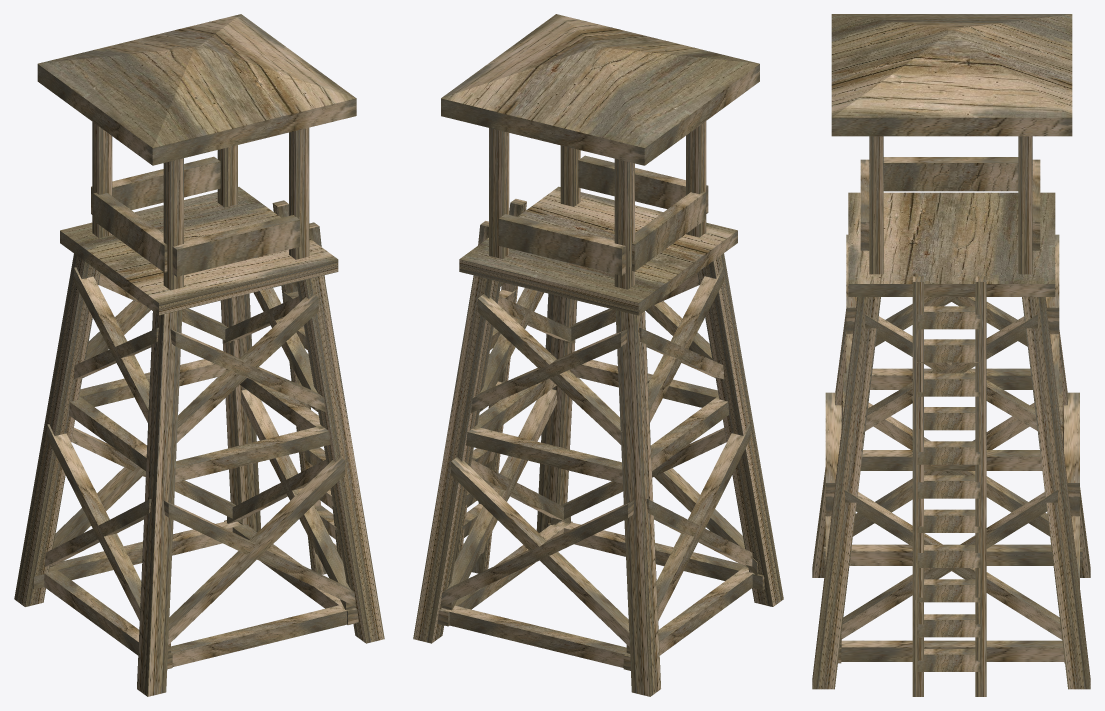
File: Watch Tower.dae
3 views of the same model, side by side, from view 1: azimuth 30°, elevation 25°; view 2: azimuth 150°, elevation 25°; view 3: azimuth 270°, elevation 25° (orthographic). The views are drawn at different scales.
Visible parts, largest first — view 1: Wood; view 2: Wood; view 3: Wood.
Boxes of the visible parts, <box> form: Wood: <box>14,14,384,696</box>; Wood: <box>413,14,783,696</box>; Wood: <box>812,14,1090,696</box>.
Bounding box in the file's own units: 9.53 × 8.51 × 20.11.
Materials: 1 (1 with a texture image).
